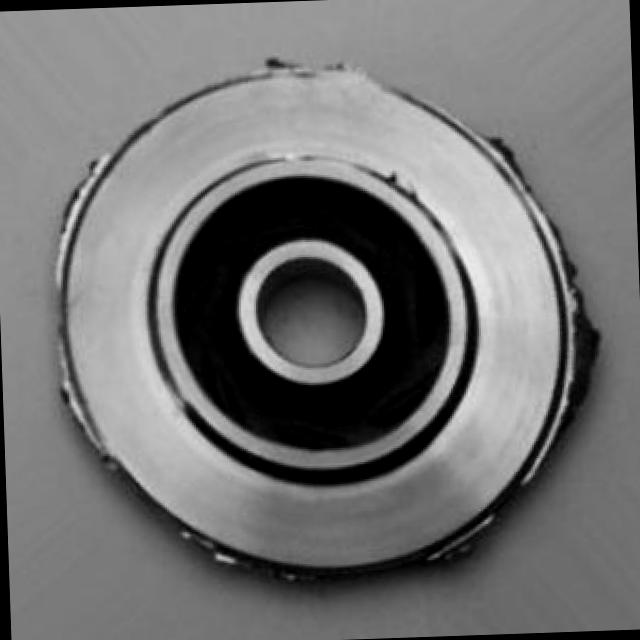Defect: (546, 262, 616, 408)
